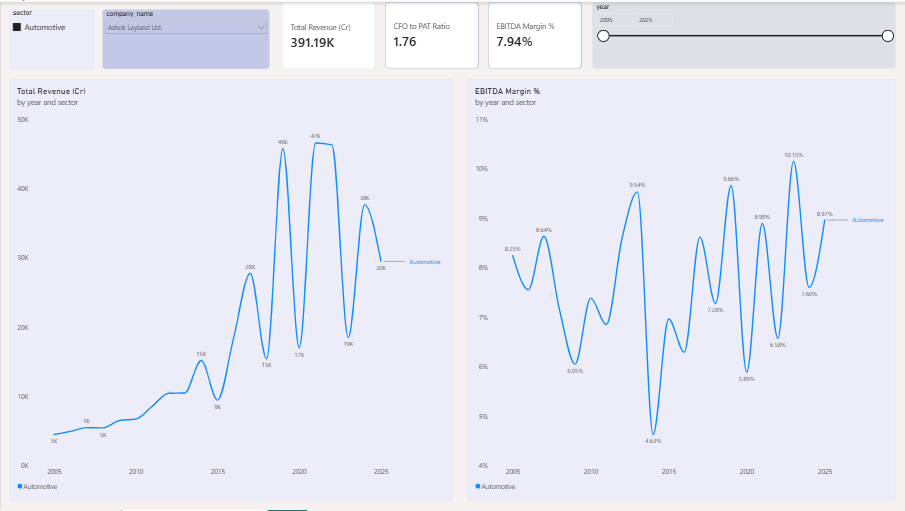

What the dashboard file says about the page in this screenshot:
{"tool":"powerbi","page":{"name":"Executive Overview","canvas":[1920,1080],"ordinal":0},"visuals":[{"type":"lineChart","fields":{"Category":["fact_financials.year"],"Series":["dim_company.sector"],"Y":["_Measures.Total Revenue (Cr)"]},"box":[17,163.7,943.9,897.2],"z":0},{"type":"lineChart","fields":{"Category":["fact_financials.year"],"Series":["dim_company.sector"],"Y":["_Measures.EBITDA Margin %"]},"box":[990.7,163.7,912,897.2],"z":1000},{"type":"slicer","fields":{"Values":["dim_company.sector"]},"box":[17,14.9,182.8,127.6],"z":2000},{"type":"slicer","fields":{"Values":["dim_company.company_name"]},"box":[214.7,14.9,357.2,127.6],"z":3000},{"type":"slicer","fields":{"Values":["fact_financials.year"]},"box":[1256.5,0,646.3,142.4],"z":4000},{"type":"cardVisual","fields":{"Data":["_Measures.Total Revenue (Cr)"]},"box":[597.4,0,199.4,143.2],"z":5000},{"type":"cardVisual","fields":{"Data":["_Measures.EBITDA Margin %"]},"box":[1035.4,0,199.8,142.4],"z":6000},{"type":"cardVisual","fields":{"Data":["_Measures.CFO to PAT Ratio"]},"box":[816.4,0,199.8,142.4],"z":7000}]}

Visuals, with their boxes in screenshot pixels (x1, y1, x2, y2), scaled from the page's 1920x1080 canvas onto the 905x511 screenshot:
lineChart - fact_financials.year x dim_company.sector: region(8, 77, 453, 502)
lineChart - fact_financials.year x dim_company.sector: region(467, 77, 897, 502)
slicer - dim_company.sector: region(8, 7, 94, 67)
slicer - dim_company.company_name: region(101, 7, 270, 67)
slicer - fact_financials.year: region(592, 0, 897, 67)
cardVisual - _Measures.Total Revenue (Cr): region(282, 0, 376, 68)
cardVisual - _Measures.EBITDA Margin %: region(488, 0, 582, 67)
cardVisual - _Measures.CFO to PAT Ratio: region(385, 0, 479, 67)
